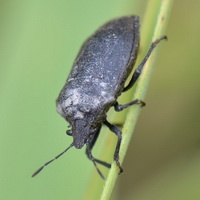insect: (32, 16, 165, 178)
